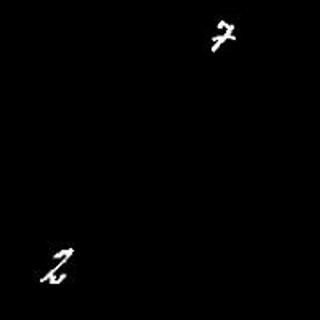seven: (210, 18, 238, 53)
two: (36, 245, 79, 287)
